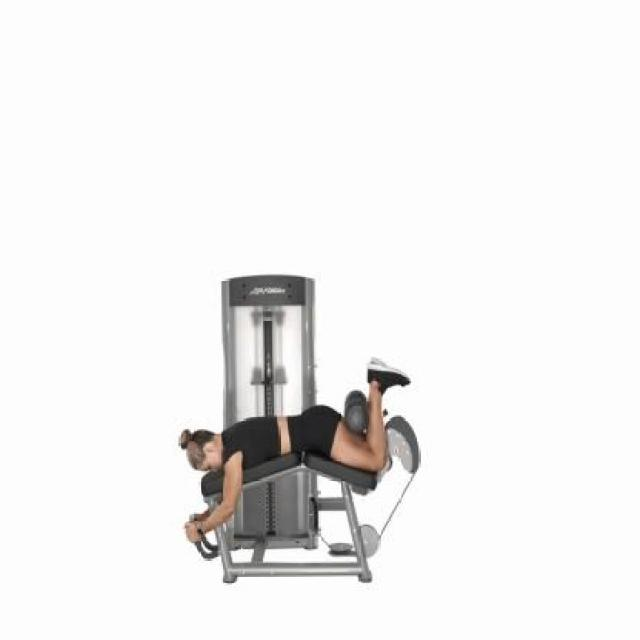reg curl machine: (168, 269, 434, 588)
